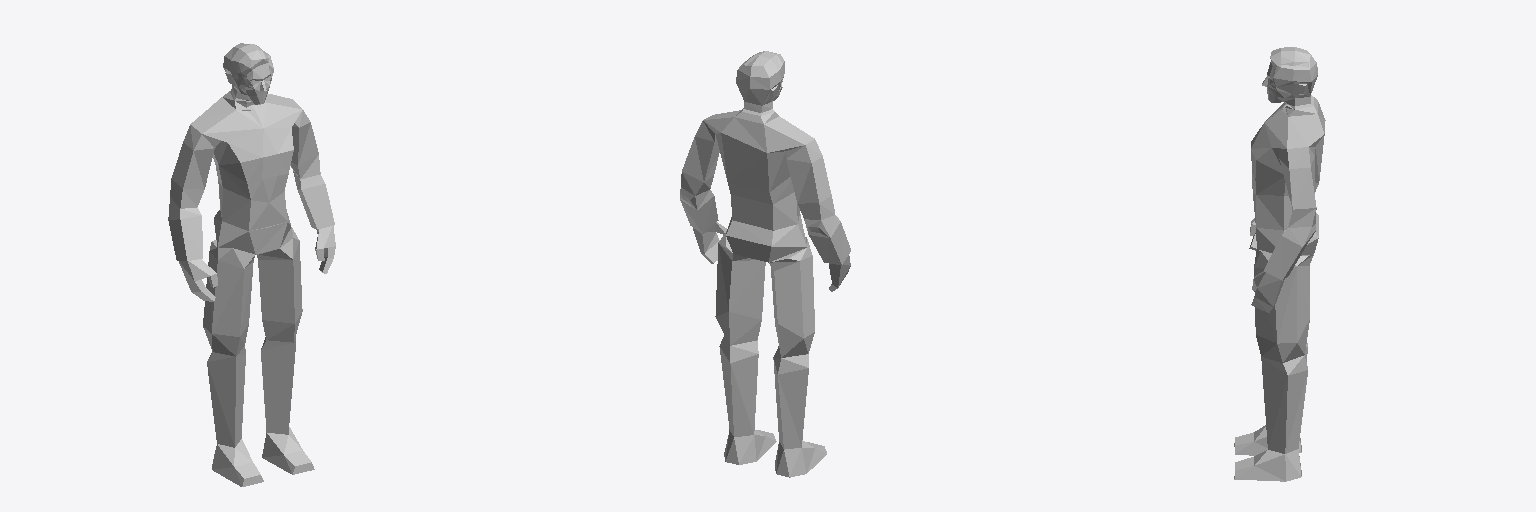
The model's file is Manuel9.obj.
3 views of the same model, side by side, from view 1: azimuth 30°, elevation 25°; view 2: azimuth 150°, elevation 25°; view 3: azimuth 270°, elevation 25° (orthographic).
Parts seen in each view (by area): view 1: leon; view 2: leon; view 3: leon.
Part boxes in pixels (left/top/right/bottom): leon: left=168, top=43, right=335, bottom=486; leon: left=680, top=51, right=850, bottom=477; leon: left=1234, top=47, right=1325, bottom=481.
Size of the model in its own units: 4.75 by 12.18 by 2.44.